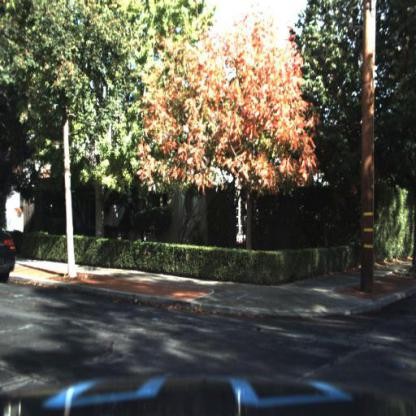car: (1, 211, 18, 299), (1, 214, 18, 293)
